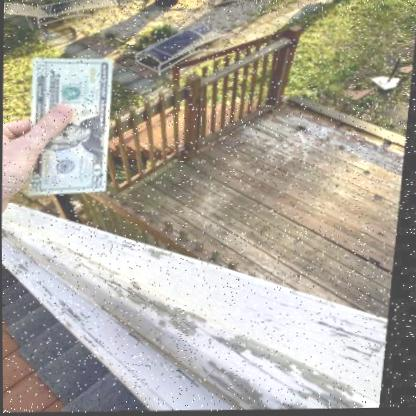twenty-front: (31, 58, 114, 195)
